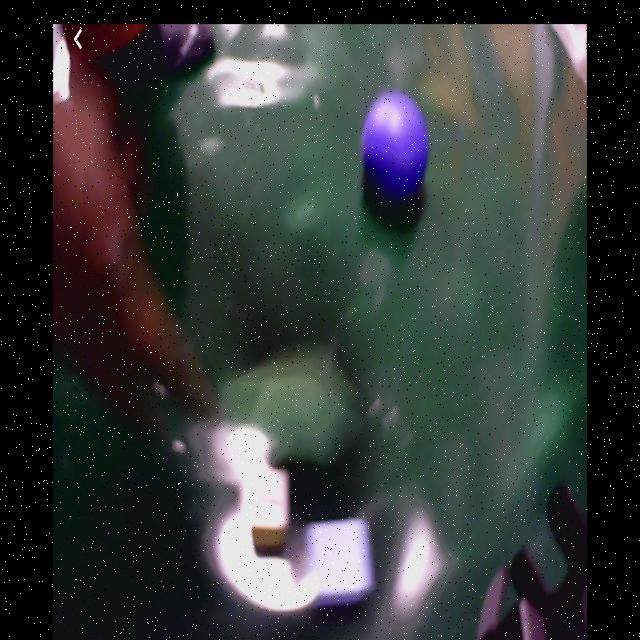ball: (366, 95, 431, 197)
